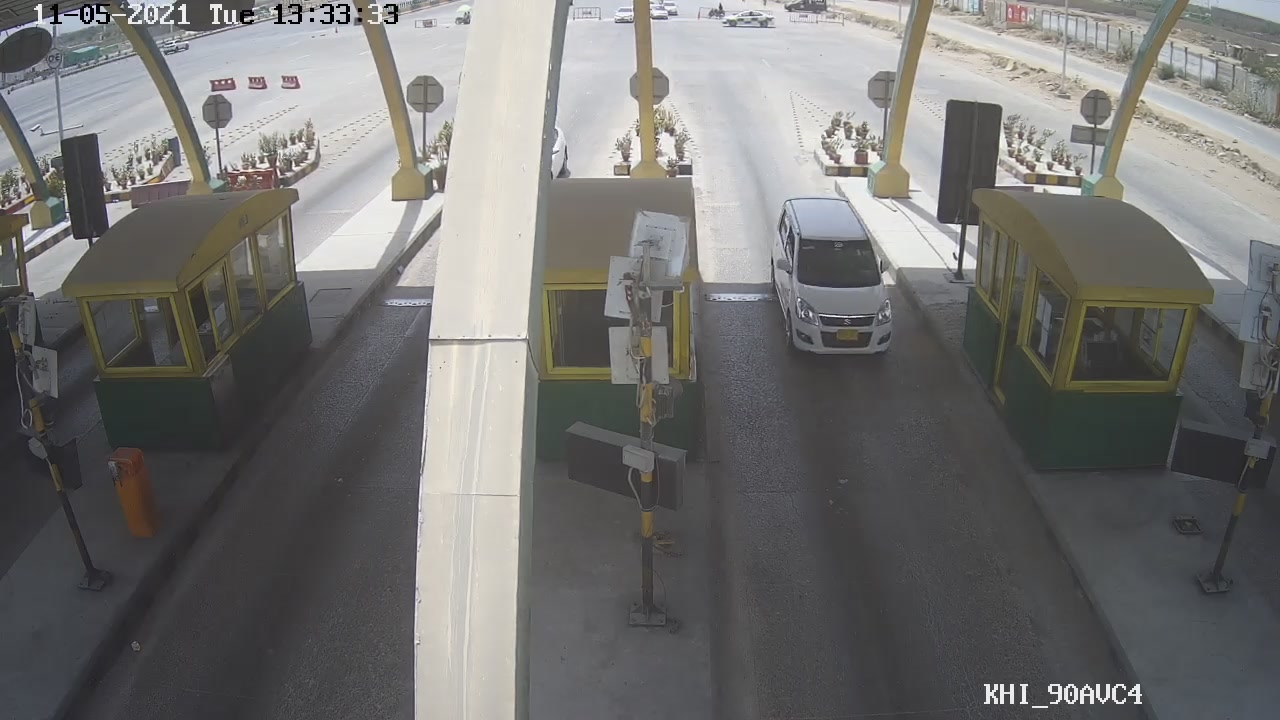F1: (758, 191, 898, 368)
